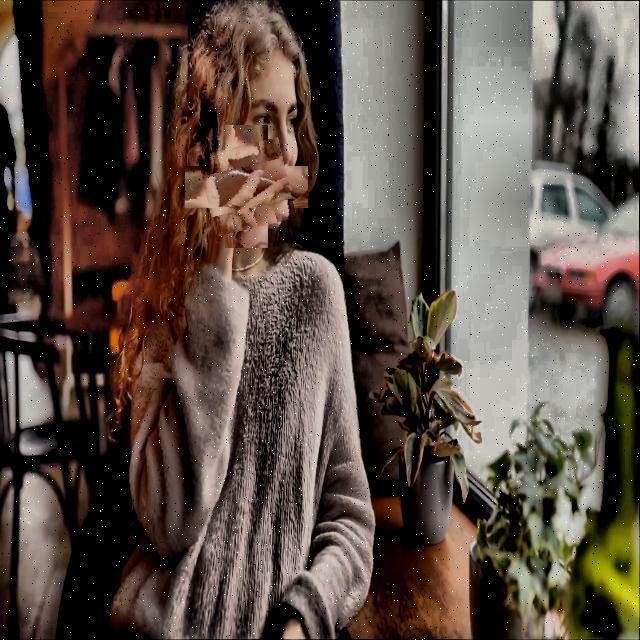Phone: (201, 141, 292, 232)
